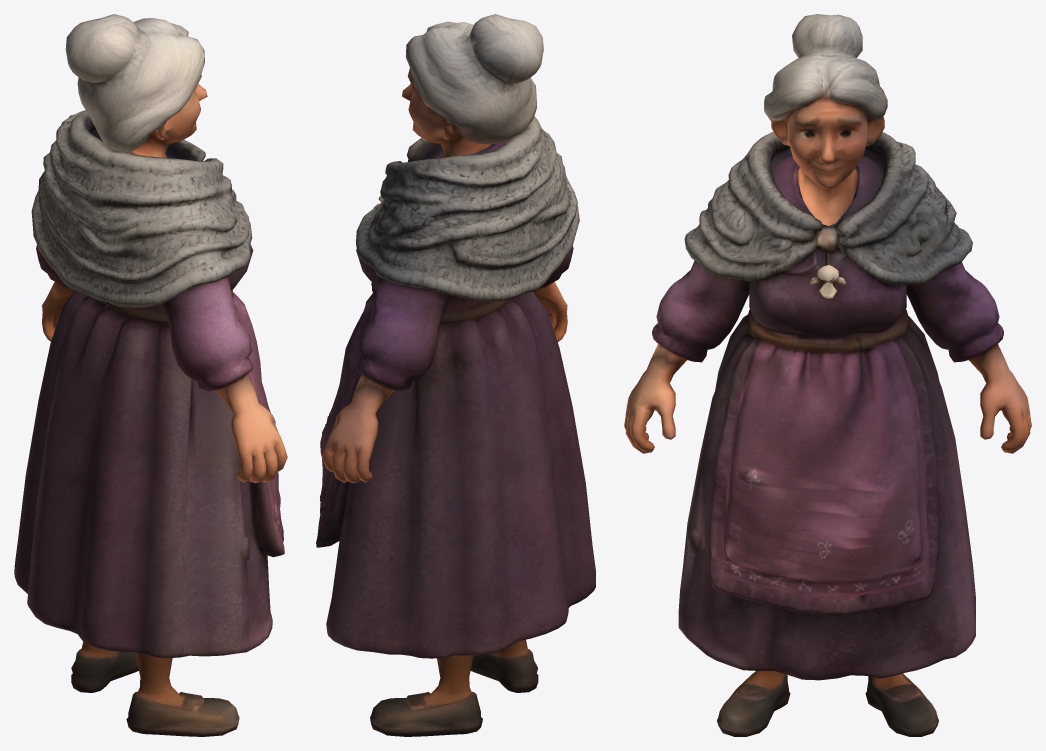
The picture shows the model from 3 angles, left to right: view 1: azimuth 30°, elevation 25°; view 2: azimuth 150°, elevation 25°; view 3: azimuth 270°, elevation 25°; orthographic projection.
Visible parts, largest first — view 1: tripo_node_f0cd0a15-28f6-4335-adec-6fcbc1b62f84; view 2: tripo_node_f0cd0a15-28f6-4335-adec-6fcbc1b62f84; view 3: tripo_node_f0cd0a15-28f6-4335-adec-6fcbc1b62f84.
Boxes of the visible parts, x1,y1,x2,y2 form: tripo_node_f0cd0a15-28f6-4335-adec-6fcbc1b62f84: (14, 14, 287, 736); tripo_node_f0cd0a15-28f6-4335-adec-6fcbc1b62f84: (316, 14, 595, 736); tripo_node_f0cd0a15-28f6-4335-adec-6fcbc1b62f84: (624, 14, 1031, 736).
Size of the model in its own units: 0.3483 by 1 by 0.5421.
Materials: 1 (1 with a texture image).
